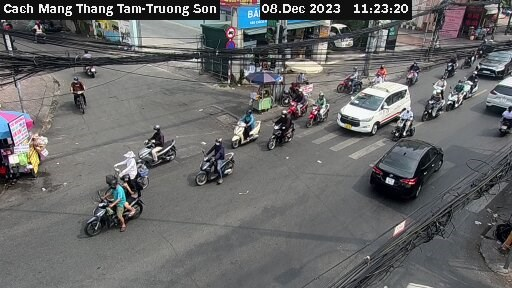car: (365, 137, 447, 196), (331, 82, 411, 133), (482, 73, 512, 114), (479, 47, 512, 78)
motorbike: (85, 193, 156, 246), (190, 142, 248, 187), (132, 131, 184, 167), (55, 76, 103, 114), (227, 112, 270, 149), (262, 113, 304, 148), (76, 48, 109, 80), (308, 98, 337, 129), (280, 91, 311, 119), (419, 90, 448, 119), (400, 59, 431, 86), (388, 109, 415, 138), (447, 86, 473, 112), (460, 69, 485, 95), (438, 55, 464, 79), (340, 70, 364, 93), (494, 103, 512, 130), (463, 47, 479, 69)
